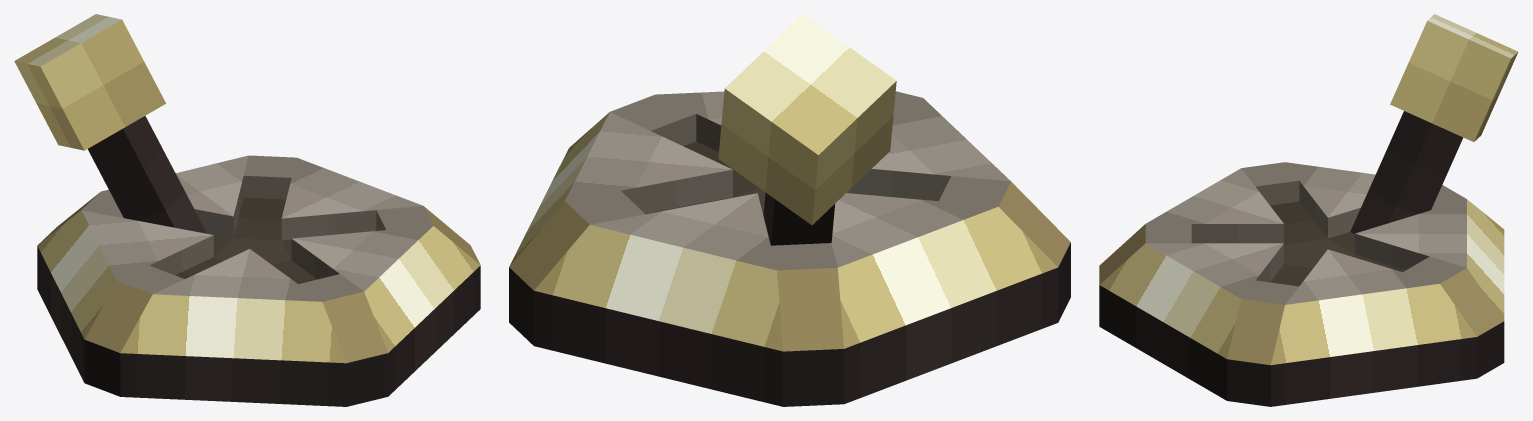
Rendered from lever_6state_3.obj.
3 views of the same model, side by side, from view 1: azimuth 30°, elevation 25°; view 2: azimuth 150°, elevation 25°; view 3: azimuth 270°, elevation 25° (orthographic). The views are drawn at different scales.
Visible parts, largest first — view 1: 6-STATE_Circle.003, LEVER_Cube.049; view 2: 6-STATE_Circle.003, LEVER_Cube.049; view 3: 6-STATE_Circle.003, LEVER_Cube.049.
Part boxes in pixels (bbox=[...]): 6-STATE_Circle.003: bbox=[37, 155, 480, 406]; LEVER_Cube.049: bbox=[14, 14, 206, 233]; 6-STATE_Circle.003: bbox=[509, 91, 1070, 406]; LEVER_Cube.049: bbox=[718, 14, 896, 245]; 6-STATE_Circle.003: bbox=[1099, 162, 1504, 406]; LEVER_Cube.049: bbox=[1350, 14, 1518, 234].
Size of the model in its own units: 0.5776 by 0.3924 by 0.5686.
